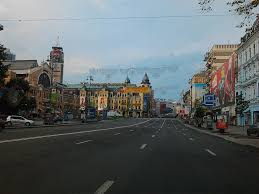car: (2, 112, 34, 127)
strada: (2, 122, 259, 193)
